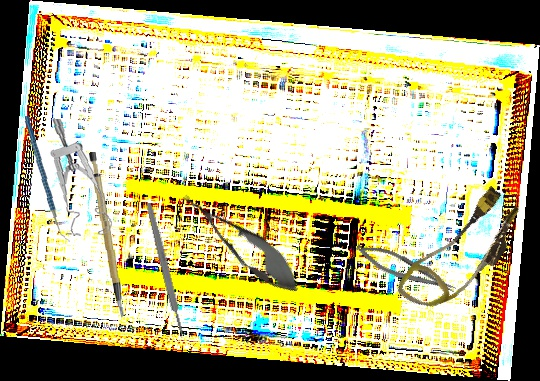Cannula: (393, 175, 532, 330)
Chopper: (18, 116, 77, 242)
Micro Scissor: (172, 181, 311, 304)
Needle Holder: (352, 235, 459, 304)
Scalpel Handle: (87, 151, 124, 320), (144, 202, 186, 334)
Speculum: (42, 118, 121, 239)
